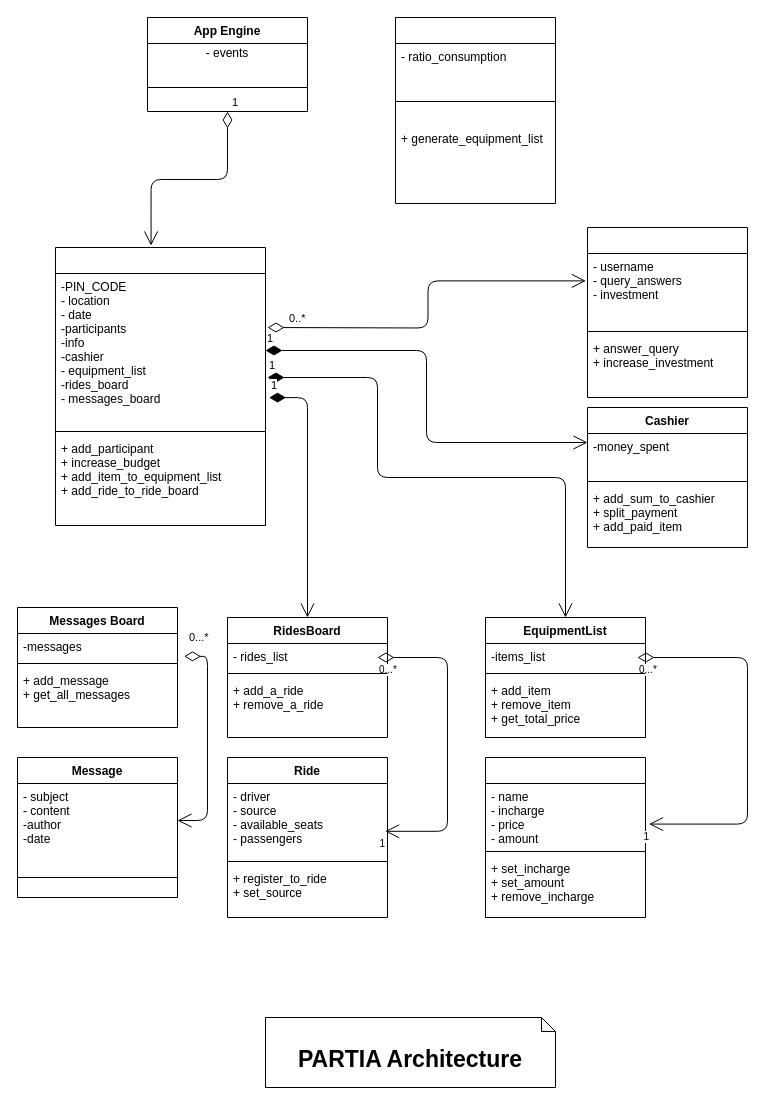
Some shapes in this 782 by 1105 pixel diagram are drawn without their labels. Each missing label, with the box of its shape:
Event: (54, 246, 266, 526)
Generator: (394, 16, 556, 204)
Item: (484, 756, 646, 918)
Participant: (586, 226, 748, 398)
